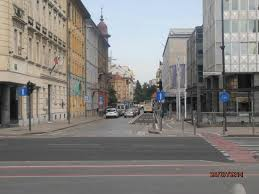strada: (0, 126, 254, 193)
